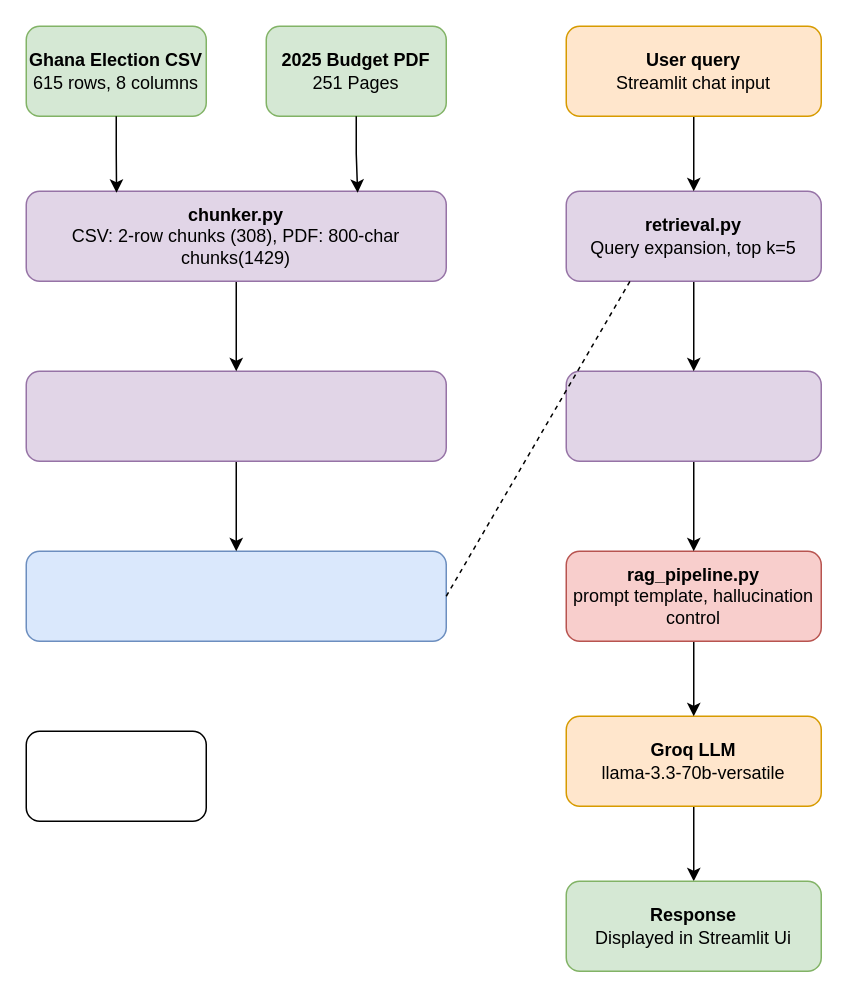
Some shapes in this 848 by 998 pixel diagram are drawn without their labels. Here are the shapes that lost their labels. From the top down, the box of each, then its label:
(25, 370, 446, 461): embedder.py sentence-tranformers, all-MiniLM-L6-v2, 384 dims
(565, 370, 821, 461): Context selection Rank, filter, 3000 char limit
(25, 550, 446, 641): FAISS vector store IndexFlatIP, 1737 vectors, cosine similarity
(25, 730, 206, 821): logger_utils.py logs each stage
